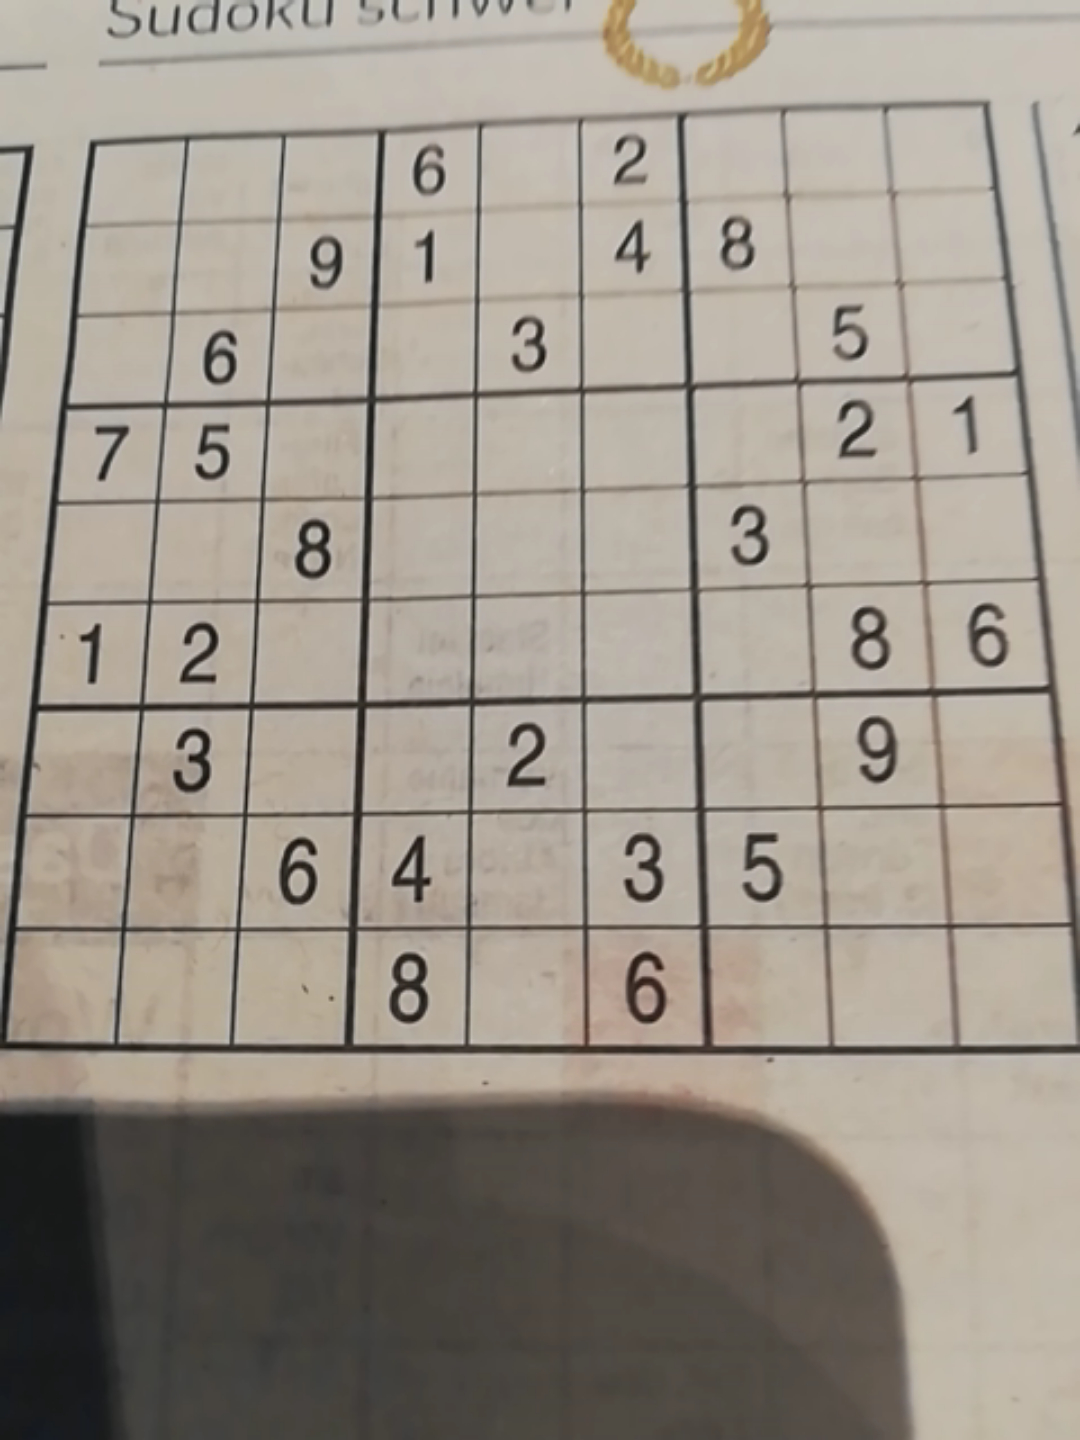sudoku: (0, 97, 1080, 1053)
